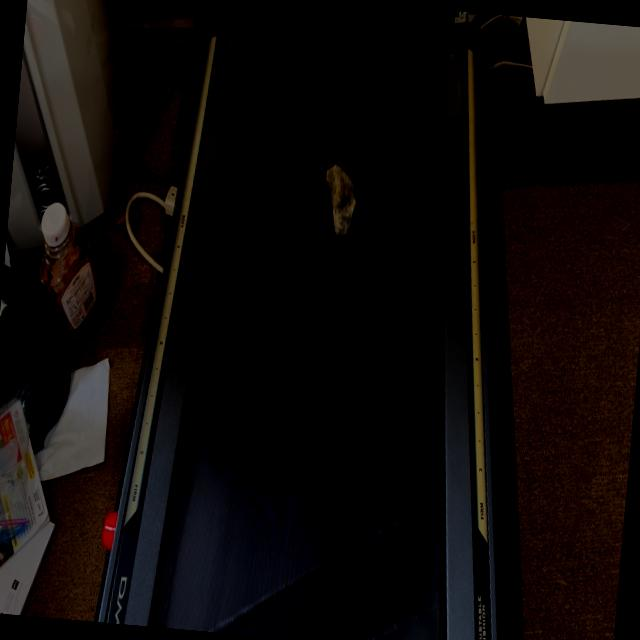Trash: (318, 164, 360, 238)
